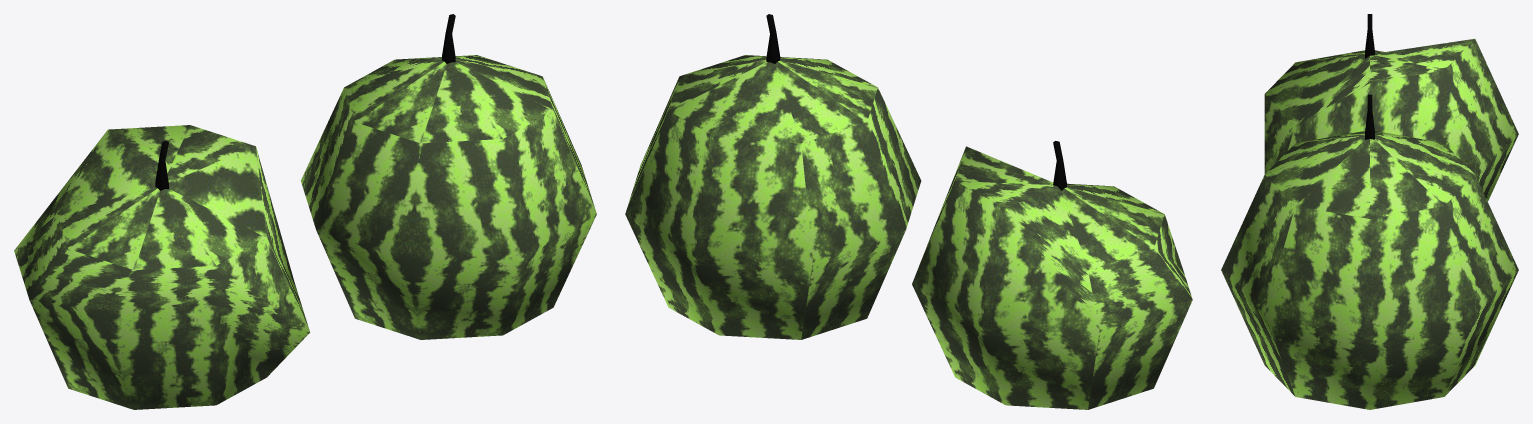
The model's file is watermelons.fbx.
3 renders of one model, left to right at view 1: azimuth 30°, elevation 25°; view 2: azimuth 150°, elevation 25°; view 3: azimuth 270°, elevation 25°, orthographic. The views are drawn at different scales.
Parts seen in each view (by area): view 1: Cube.009, Cube.010; view 2: Cube.009, Cube.010; view 3: Cube.009, Cube.010.
Boxes of the visible parts, x1,y1,x2,y2 form: Cube.009: [301, 14, 596, 339]; Cube.010: [14, 125, 309, 409]; Cube.009: [625, 14, 921, 339]; Cube.010: [912, 141, 1192, 409]; Cube.009: [1221, 94, 1518, 409]; Cube.010: [1264, 14, 1518, 201].
Size of the model in its own units: 59.84 by 33.15 by 28.77.
